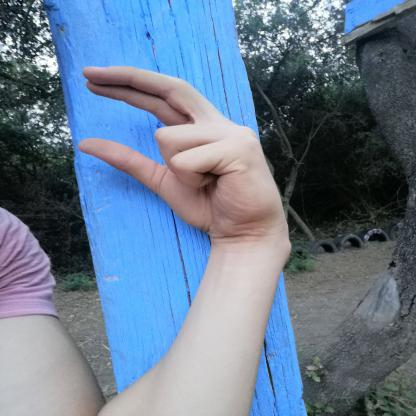DHELL: (56, 53, 300, 246)
